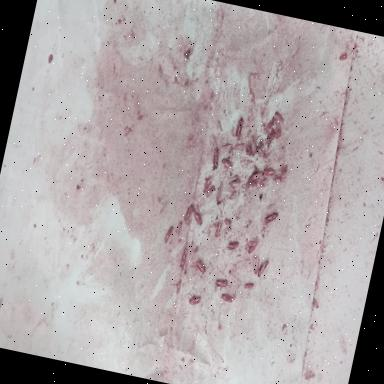pbw: (190, 207, 205, 227), (256, 258, 270, 278), (246, 236, 260, 255), (210, 146, 221, 170), (246, 134, 258, 156), (234, 116, 244, 140), (193, 258, 207, 275), (250, 255, 261, 276), (202, 176, 214, 195), (164, 224, 174, 246), (183, 204, 194, 224), (264, 115, 274, 135), (187, 294, 201, 308), (272, 112, 285, 126), (179, 248, 188, 268), (226, 239, 239, 252), (214, 182, 222, 203), (220, 292, 234, 304), (220, 158, 234, 170), (214, 219, 222, 238), (250, 170, 262, 182), (222, 219, 233, 232), (214, 278, 228, 288), (262, 167, 275, 177), (206, 184, 214, 198), (243, 281, 254, 291), (175, 280, 182, 295), (176, 221, 182, 238), (230, 179, 240, 188), (230, 174, 237, 182)
